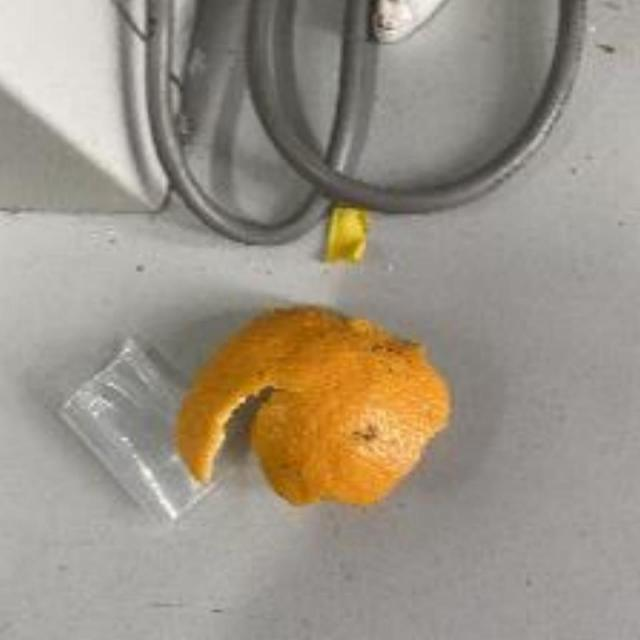orange peel: (172, 304, 458, 518)
